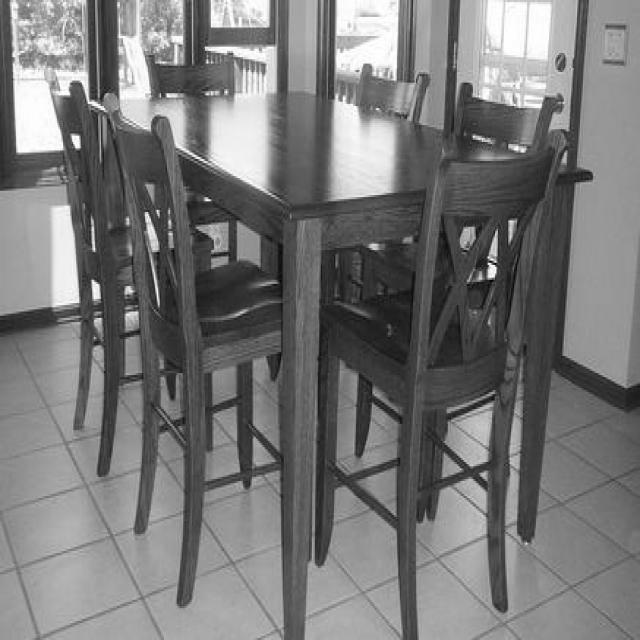chair: (351, 99, 564, 630), (106, 94, 300, 602), (41, 61, 216, 487)
table: (111, 89, 596, 638)
